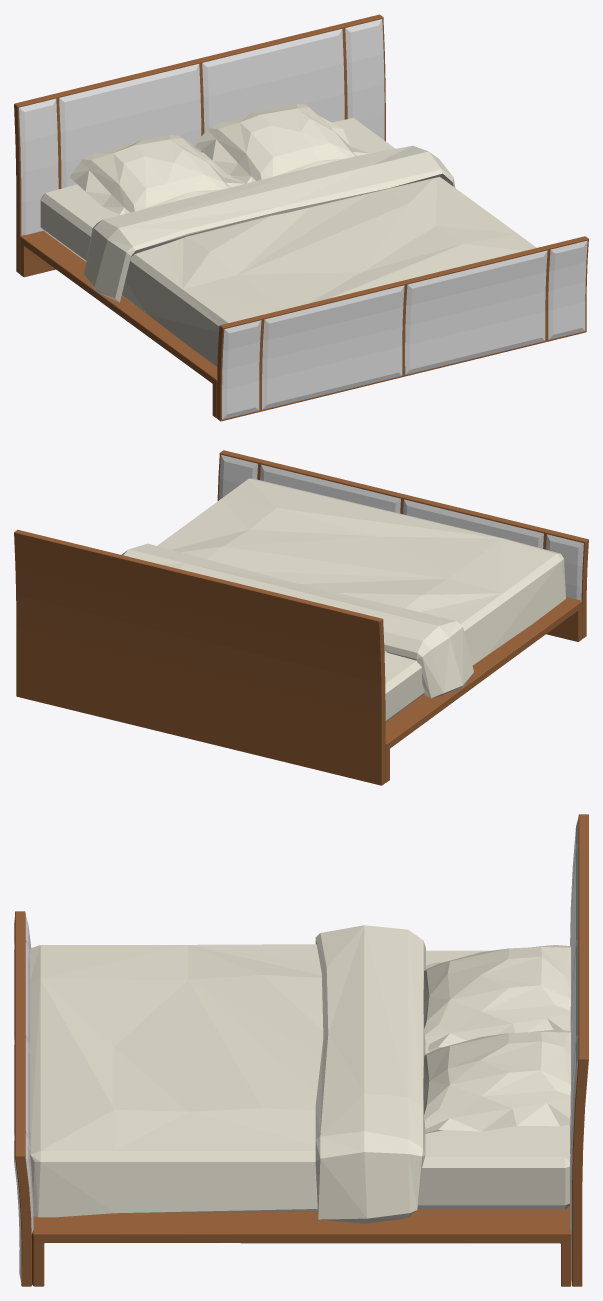
File: boho_bed2.glb
3 renders of one model, top to bottom at view 1: azimuth 30°, elevation 25°; view 2: azimuth 150°, elevation 25°; view 3: azimuth 270°, elevation 25°, orthographic. The views are drawn at different scales.
Visible parts, largest first — view 1: Node; view 2: Node; view 3: Node.
Boxes of the visible parts, x1,y1,x2,y2 form: Node: [14, 14, 588, 421]; Node: [14, 450, 588, 785]; Node: [14, 814, 588, 1286].
Size of the model in its own units: 86.3 by 37.37 by 85.37.
